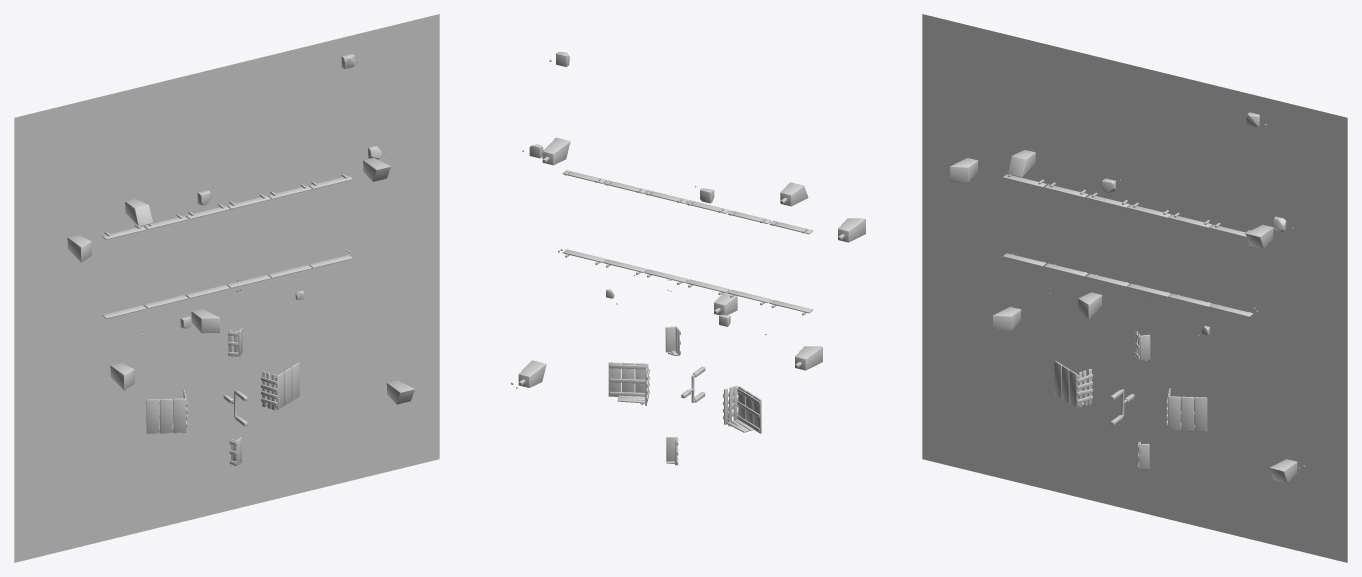
3 renders of one model, left to right at view 1: azimuth 30°, elevation 25°; view 2: azimuth 150°, elevation 25°; view 3: azimuth 330°, elevation 25°, orthographic.
Visible parts, largest first — view 1: floor.006, shadeEmeraldGreen.003, shadeEmeraldGreen.007; view 2: shadeEmeraldGreen.009, shadeEmeraldGreen.005, shadeEmeraldGreen.004, shadeEmeraldGreen.010; view 3: floor.006, shadeEmeraldGreen.003, shadeEmeraldGreen.010, shadeEmeraldGreen.005.
Part boxes in pixels (left/top/right/bottom): floor.006: left=14, top=14, right=439, bottom=562; shadeEmeraldGreen.003: left=125, top=199, right=153, bottom=226; shadeEmeraldGreen.007: left=191, top=309, right=219, bottom=333; shadeEmeraldGreen.009: left=518, top=360, right=546, bottom=387; shadeEmeraldGreen.005: left=838, top=218, right=865, bottom=242; shadeEmeraldGreen.004: left=542, top=137, right=570, bottom=165; shadeEmeraldGreen.010: left=795, top=346, right=822, bottom=370; floor.006: left=922, top=14, right=1347, bottom=562; shadeEmeraldGreen.003: left=1007, top=150, right=1035, bottom=177; shadeEmeraldGreen.010: left=993, top=306, right=1020, bottom=330; shadeEmeraldGreen.005: left=950, top=158, right=977, bottom=182.
Size of the model in its own units: 40 by 40 by 4.07.
1 material, 1 textured.
